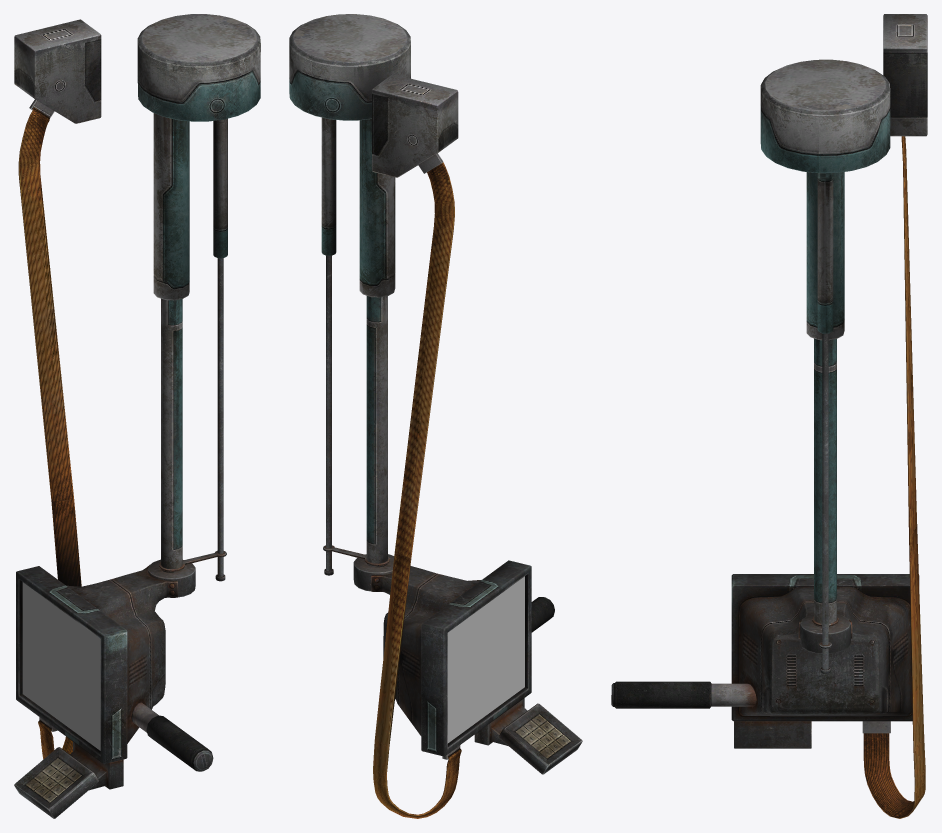
The model's file is computer_ceiling_terminal.dae.
3 views of the same model, side by side, from view 1: azimuth 30°, elevation 25°; view 2: azimuth 150°, elevation 25°; view 3: azimuth 270°, elevation 25° (orthographic). The views are drawn at different scales.
Parts seen in each view (by area): view 1: computer_ceiling, computer_ceiling_display; view 2: computer_ceiling, computer_ceiling_display; view 3: computer_ceiling.
Boxes of the visible parts, x1,y1,x2,y2 form: computer_ceiling: (14, 14, 260, 818); computer_ceiling_display: (22, 582, 100, 750); computer_ceiling: (289, 14, 582, 818); computer_ceiling_display: (447, 576, 524, 743); computer_ceiling: (611, 14, 927, 818).
Size of the model in its own units: 0.7323 by 2.11 by 0.7729.
